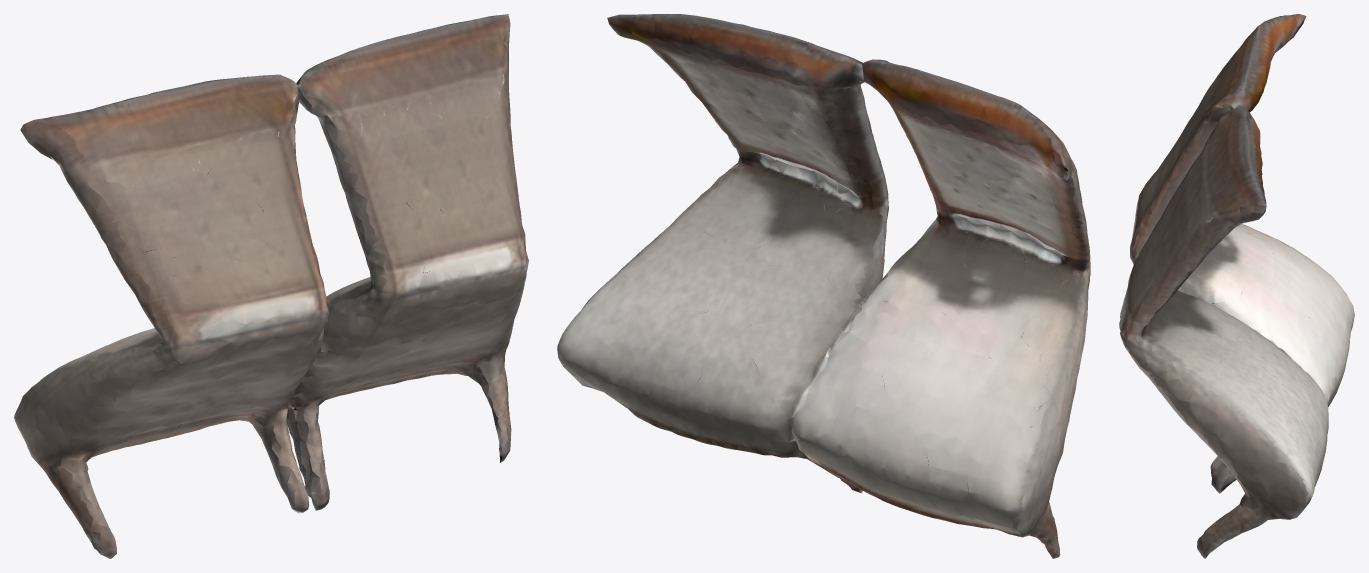
File: raw_mesh.glb
3 renders of one model, left to right at view 1: azimuth 30°, elevation 25°; view 2: azimuth 150°, elevation 25°; view 3: azimuth 270°, elevation 25°, orthographic. The views are drawn at different scales.
Parts seen in each view (by area): view 1: world; view 2: world; view 3: world.
Boxes of the visible parts, x1,y1,x2,y2 form: world: [14, 14, 528, 558]; world: [557, 14, 1090, 558]; world: [1119, 14, 1354, 558].
Size of the model in its own units: 1 by 0.868 by 0.463.
1 material, 1 textured.
